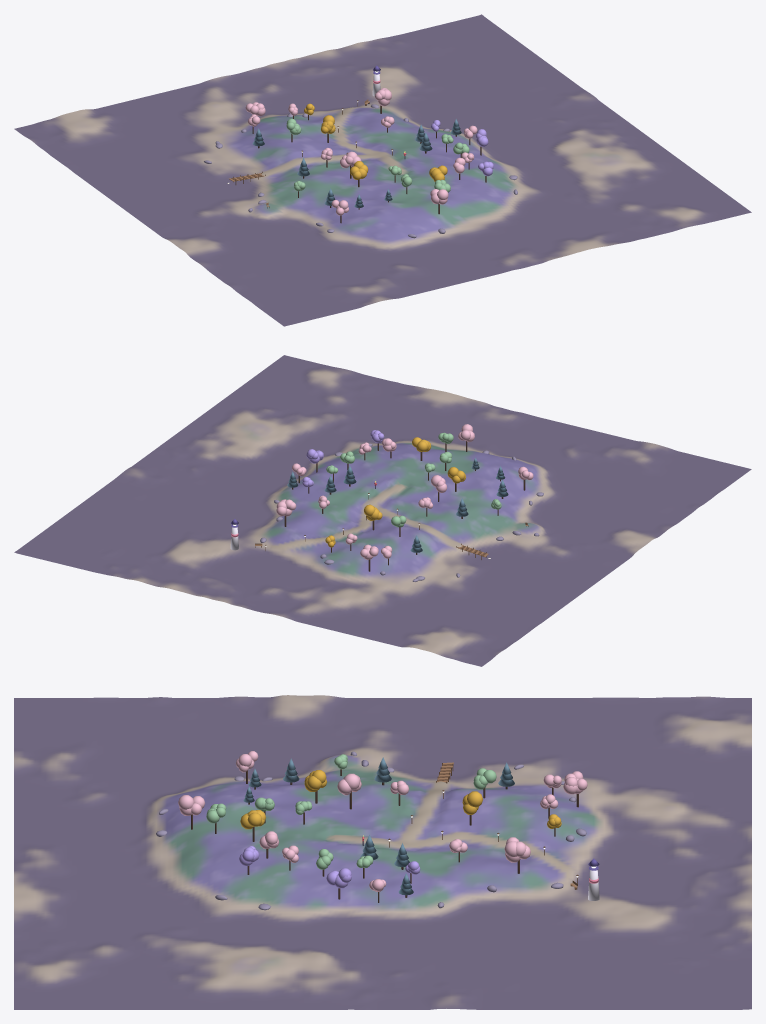
File: island.glb
3 renders of one model, top to bottom at view 1: azimuth 30°, elevation 25°; view 2: azimuth 150°, elevation 25°; view 3: azimuth 270°, elevation 25°, orthographic. The views are drawn at different scales.
Parts seen in each view (by area): view 1: Terrain; view 2: Terrain; view 3: Terrain.
Part boxes in pixels (box(x1,y1,x2,y2)): Terrain: box(14, 14, 751, 326); Terrain: box(14, 355, 751, 666); Terrain: box(14, 695, 751, 1009).
Bounding box in the file's own units: 112 × 8.76 × 112.
